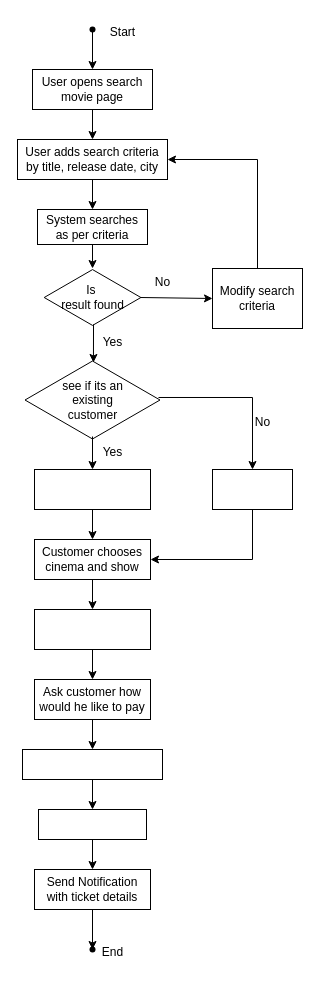
Some shapes in this 320 by 984 pixel diagram are drawn without their labels. Each missing label, with the box of its shape:
Credit Card | Cash | ETF: (22, 748, 162, 780)
Customer chooses seats to show: (34, 608, 150, 650)
Find customer details: (34, 468, 150, 510)
Make Booking: (38, 808, 146, 840)
Register a customer: (212, 468, 292, 510)
